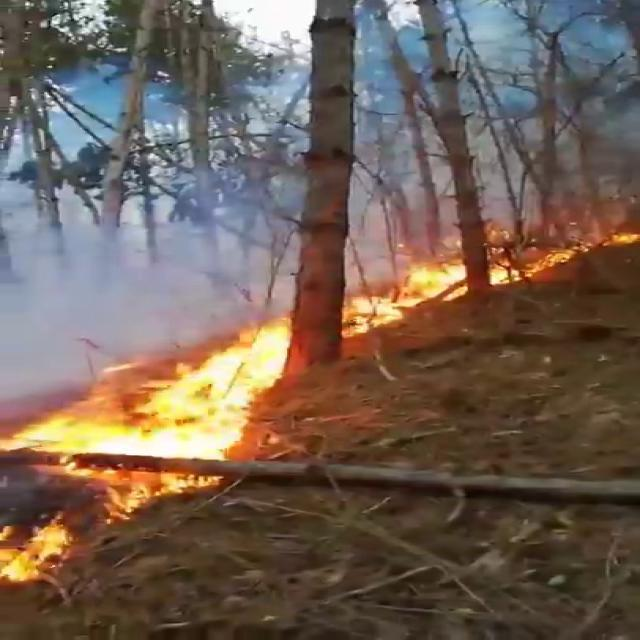Fire: (0, 312, 306, 582), (348, 229, 538, 329), (514, 215, 640, 277)
Smoke: (0, 164, 266, 380)
